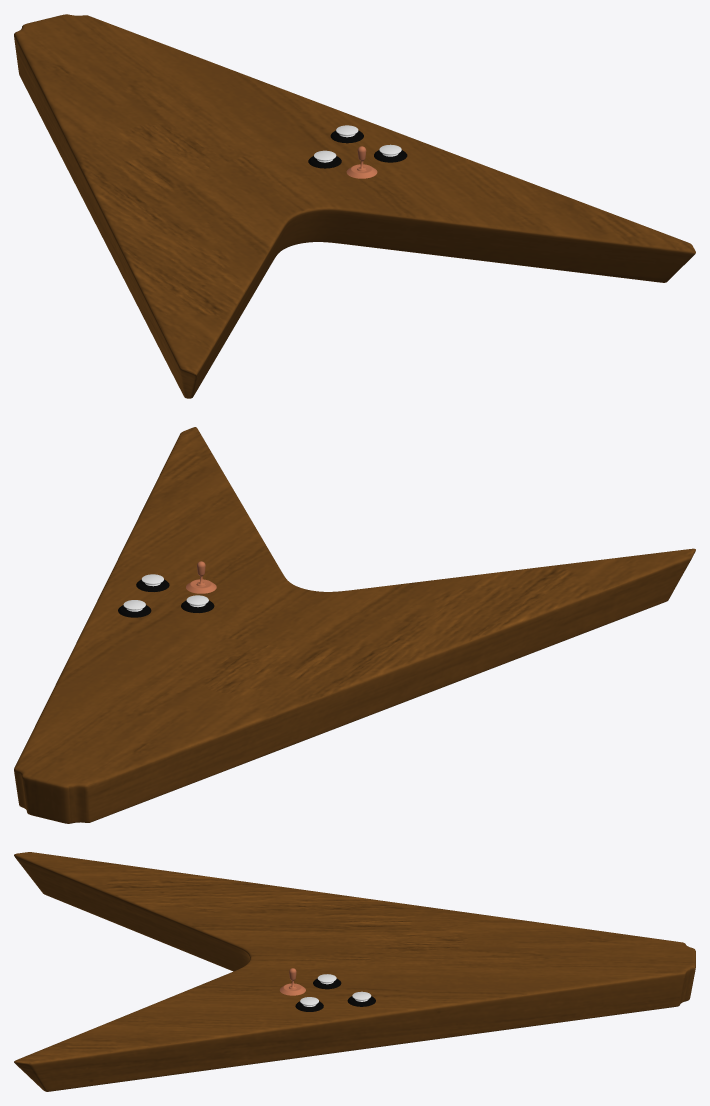
File: Guitarra_V_Fresno.glb
3 views of the same model, one above another, from view 1: azimuth 30°, elevation 25°; view 2: azimuth 150°, elevation 25°; view 3: azimuth 270°, elevation 25° (orthographic). The views are drawn at different scales.
Parts seen in each view (by area): view 1: Guitarra_V_Fresno; view 2: Guitarra_V_Fresno; view 3: Guitarra_V_Fresno.
Part boxes in pixels (x1,y1,x2,y2): Guitarra_V_Fresno: (14,14,695,398); Guitarra_V_Fresno: (14,427,695,823); Guitarra_V_Fresno: (14,852,695,1091).
Size of the model in its own units: 1.98 by 0.2508 by 2.7.
4 materials, 1 textured.
